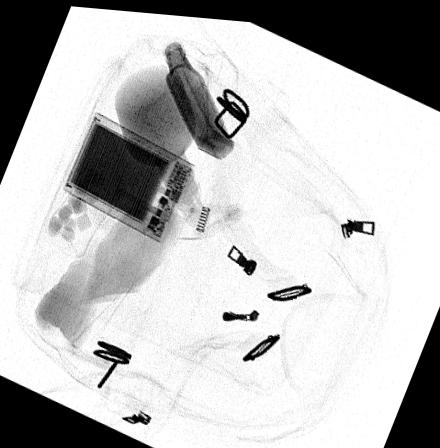Powerbank: (61, 109, 196, 240)
